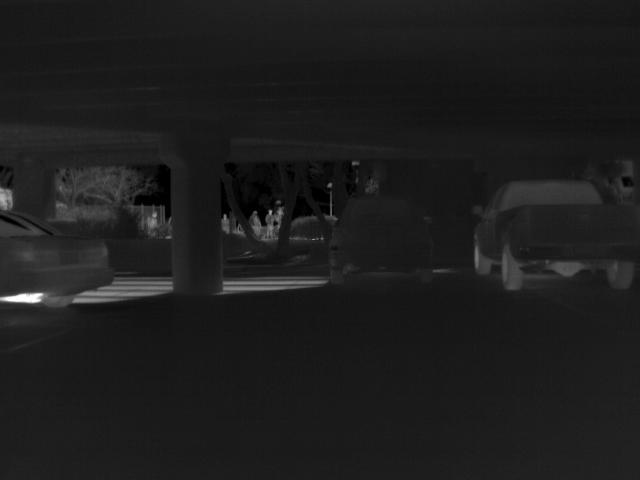car: (468, 174, 638, 292), (1, 210, 117, 310), (325, 195, 436, 284)
person: (263, 207, 276, 239), (220, 212, 232, 234), (246, 209, 260, 226)
